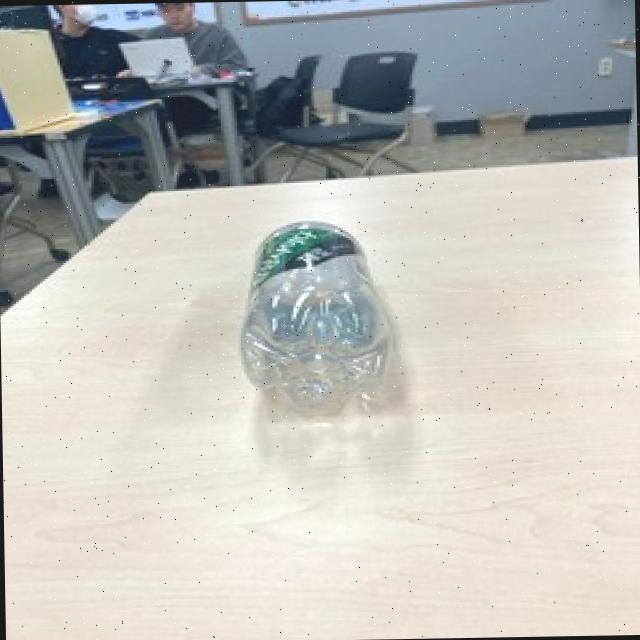bottle: (234, 214, 401, 433)
label: (241, 219, 384, 284)
